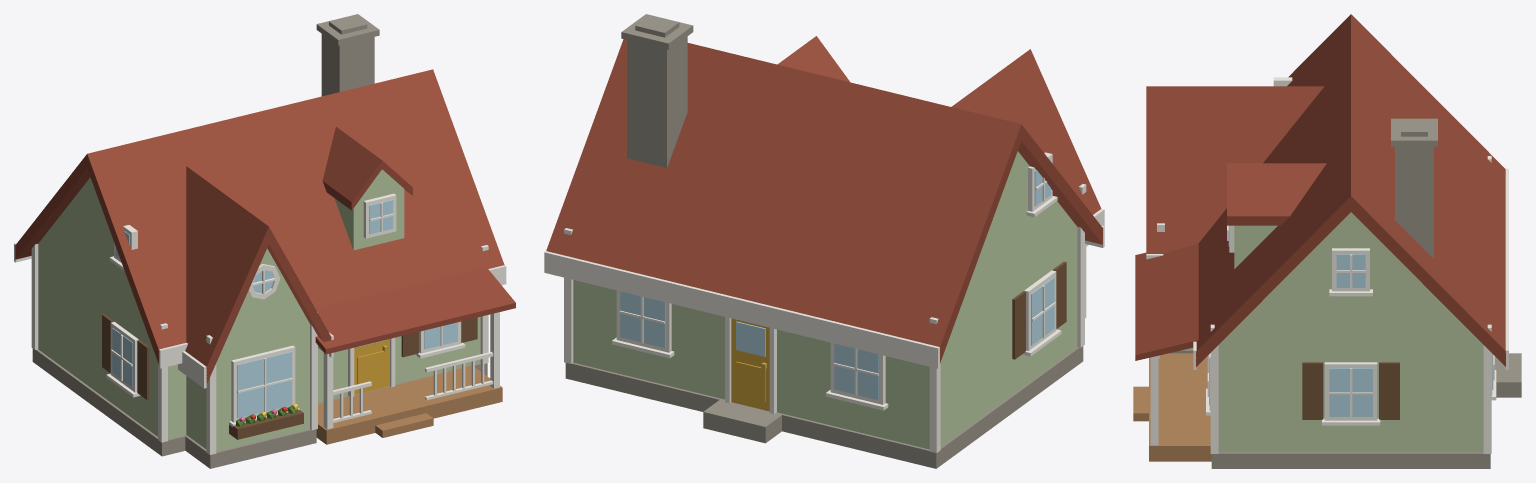
The model's file is house_cottage.glb.
3 views of the same model, side by side, from view 1: azimuth 30°, elevation 25°; view 2: azimuth 150°, elevation 25°; view 3: azimuth 270°, elevation 25° (orthographic). The views are drawn at different scales.
Visible parts, largest first — view 1: house_cottage; view 2: house_cottage; view 3: house_cottage.
Boxes of the visible parts, box(x1,y1,x2,y2) form: house_cottage: box(14, 14, 515, 468); house_cottage: box(544, 14, 1104, 468); house_cottage: box(1133, 14, 1521, 468).
Bounding box in the file's own units: 8.84 × 7.24 × 7.97.
